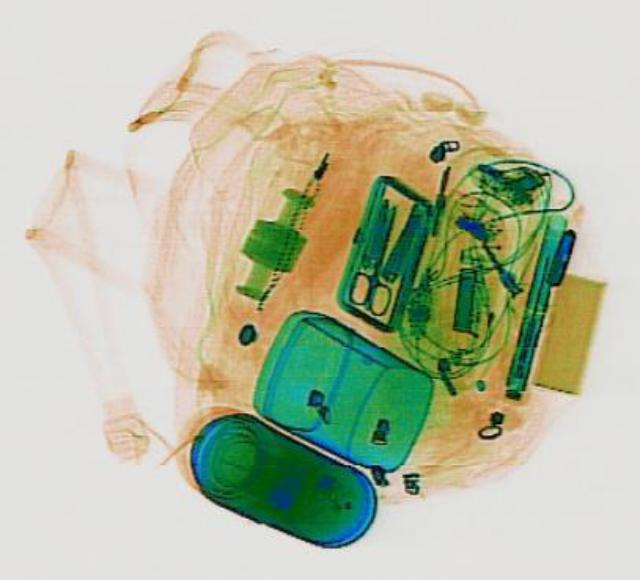Scissors: (340, 198, 414, 314)
